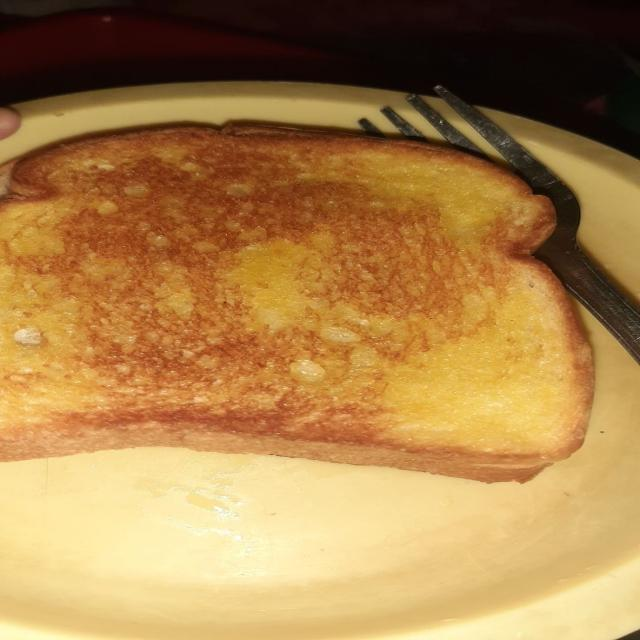toast bread: (0, 127, 590, 481)
